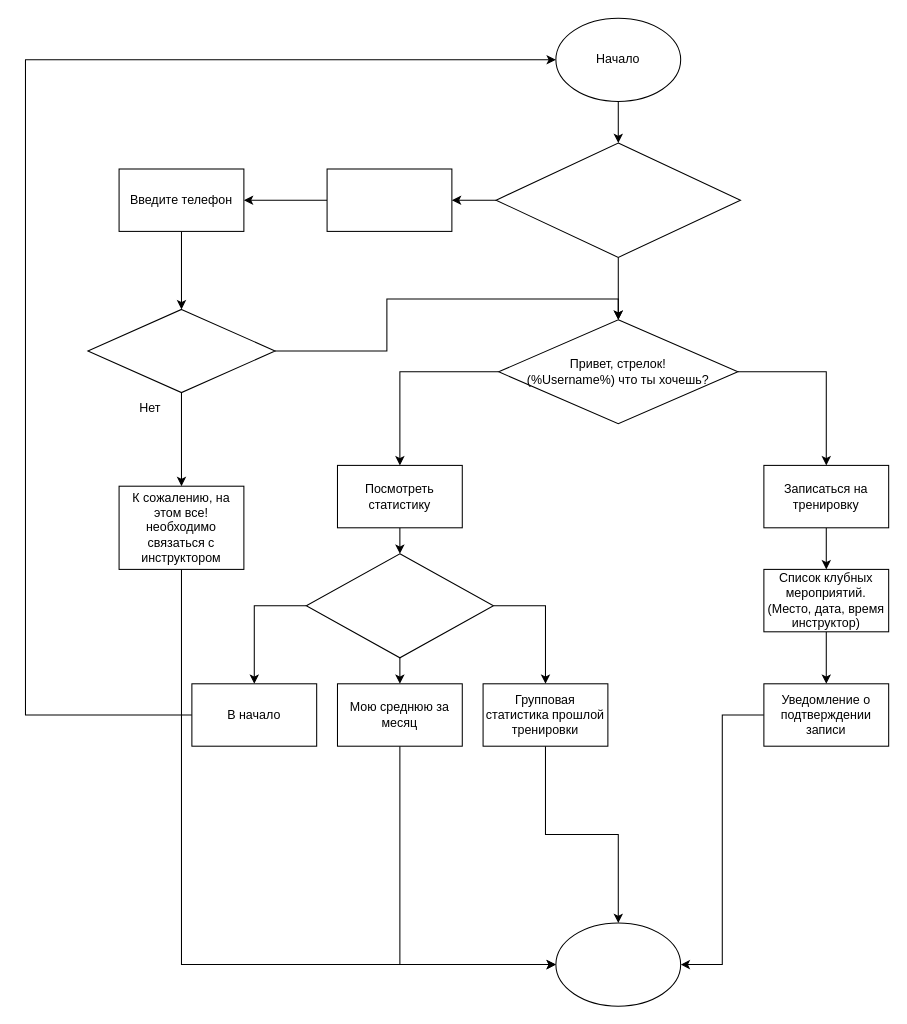
Some shapes in this 907 by 1024 pixel diagram are drawn without their labels. The box of each missing label's shape, as (x1, y1, x2, y2) in pixels:
Введите имя: (326, 168, 452, 231)
Какую стастику хочешь посмотреть?: (305, 553, 493, 658)
Конец: (555, 922, 681, 1006)
Проверка по ID в списке участников: (495, 142, 740, 257)
Участник есть в списках?: (87, 308, 275, 393)
